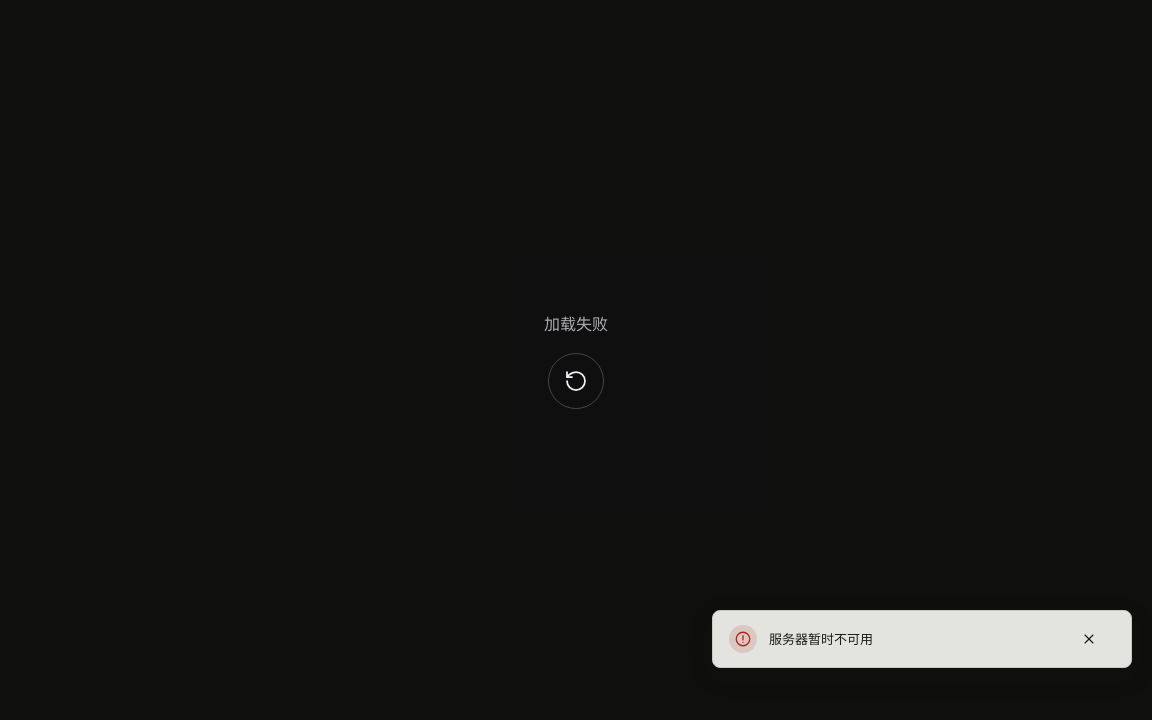
Test: reader route › offers a way out and a retry when the reader cannot load
Later steps or results of the test are not shown.
expect the message "加载失败" is shown: met, box [544,314,608,334]
Click the element showing "加载失败": (69, 360) [0,0,1151,719]
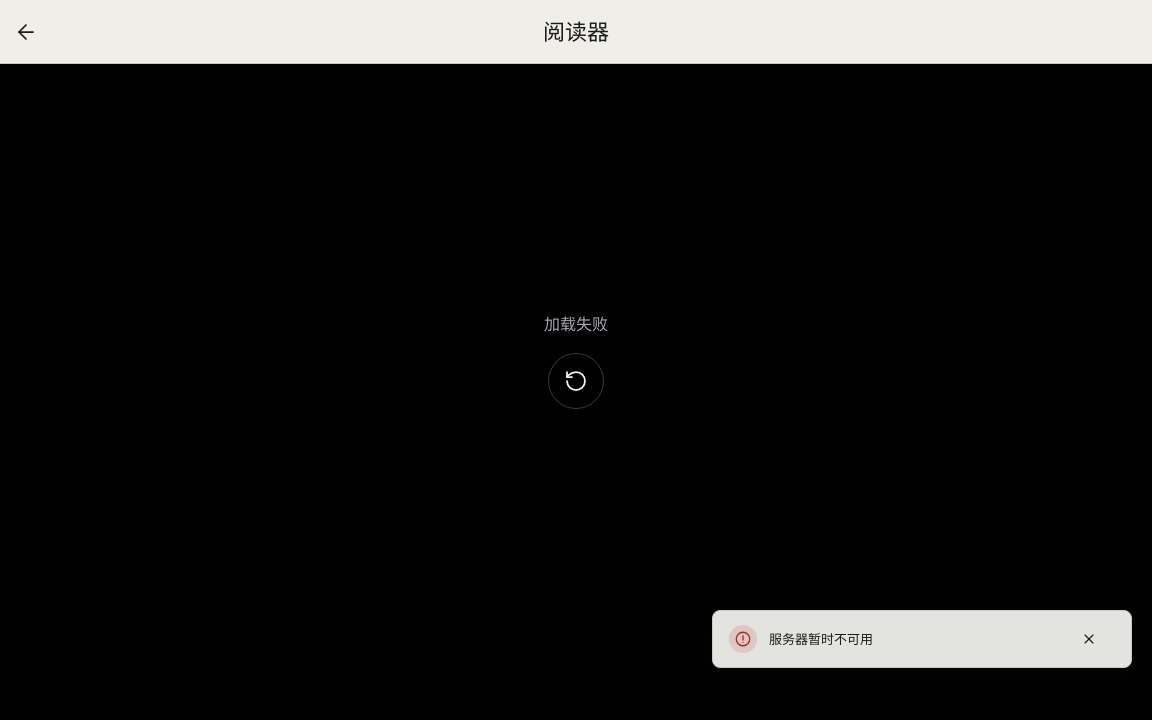
expect the text "服务器暂时不可用" is shown: met, box [769,631,873,647]
expect the button named "返回上一页" is shown: met, box [4,10,48,54]
